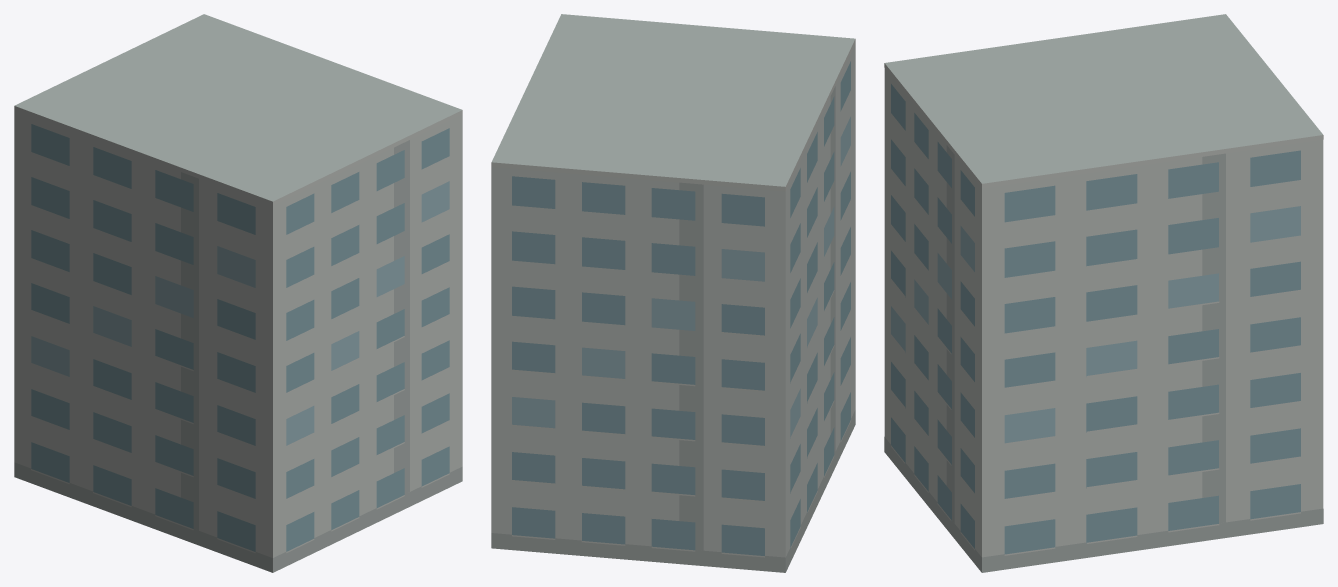
The model's file is survey-upis-32786952.glb.
3 views of the same model, side by side, from view 1: azimuth 30°, elevation 25°; view 2: azimuth 150°, elevation 25°; view 3: azimuth 270°, elevation 25° (orthographic). The views are drawn at different scales.
Parts seen in each view (by area): view 1: survey-upis-32786952.tmp; view 2: survey-upis-32786952.tmp; view 3: survey-upis-32786952.tmp.
Part boxes in pixels (<box>): survey-upis-32786952.tmp: <box>14,14,462,572</box>; survey-upis-32786952.tmp: <box>491,14,855,572</box>; survey-upis-32786952.tmp: <box>884,14,1323,572</box>.
Bounding box in the file's own units: 19.2 × 20.5 × 20.97.
